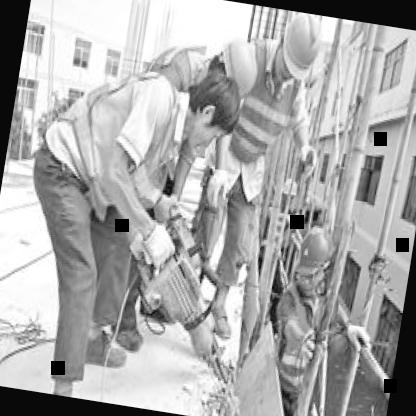head: (181, 72, 250, 158)
helmet: (266, 9, 328, 95), (208, 30, 271, 102), (292, 219, 337, 296)
